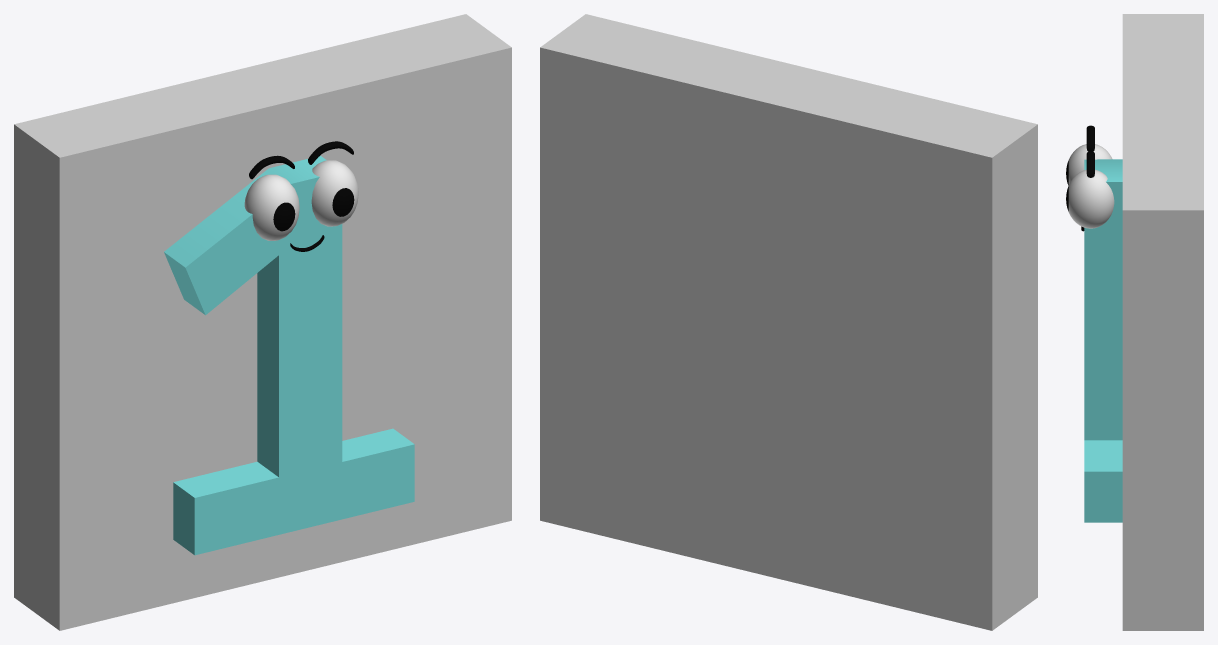
File: choice1.fbx
The picture shows the model from 3 angles, left to right: view 1: azimuth 30°, elevation 25°; view 2: azimuth 150°, elevation 25°; view 3: azimuth 270°, elevation 25°; orthographic projection. The views are drawn at different scales.
Visible parts, largest first — view 1: oneMeshShape2; view 2: oneMeshShape2; view 3: oneMeshShape2.
Boxes of the visible parts, x1,y1,x2,y2 form: oneMeshShape2: [14, 14, 511, 630]; oneMeshShape2: [540, 14, 1037, 630]; oneMeshShape2: [1066, 14, 1203, 630].
Size of the model in its own units: 6 by 6 by 1.78.
